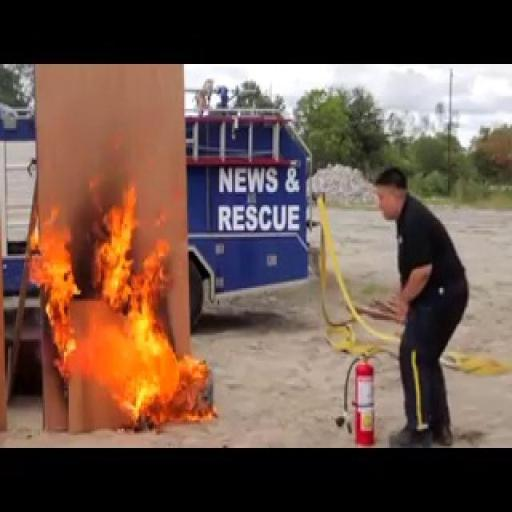smoke: (18, 102, 214, 432)
